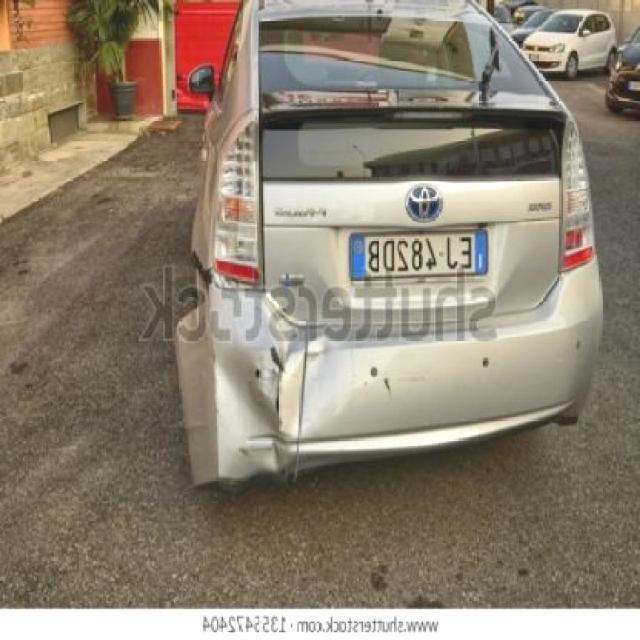minor: (174, 286, 415, 485)
